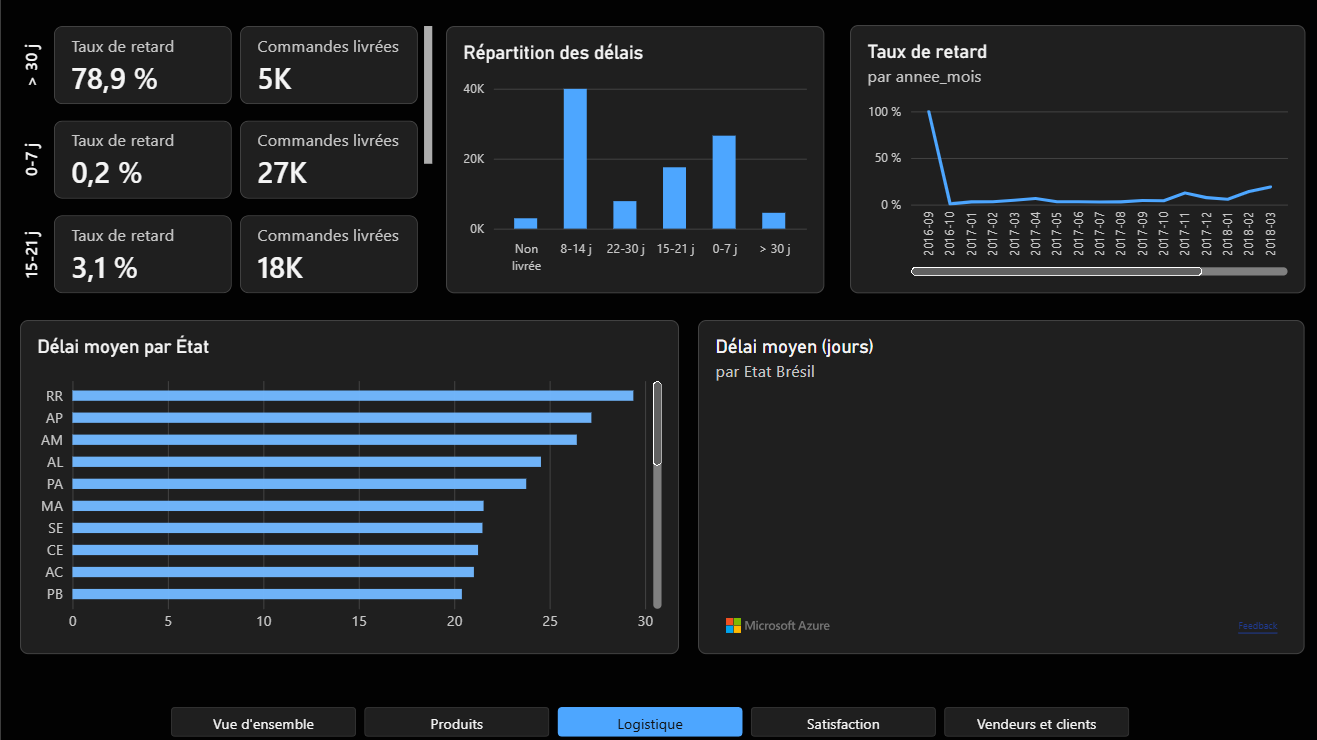

Layout of this report page (visuals, bound fields, positions):
{"tool":"powerbi","page":{"name":"Logistique","canvas":[1280,720],"ordinal":2},"visuals":[{"type":"cardVisual","fields":{"Data":["_Mesures.Taux de retard","_Mesures.Commandes livrées"],"Rows":["fait_commandes.Tranche délai"]},"box":[18.3,24.8,401.5,269.8],"z":0},{"type":"clusteredColumnChart","title":"Répartition des délais","fields":{"Category":["fait_commandes.Tranche délai"],"Y":["_Mesures.Nb commandes"]},"box":[432.8,24.8,368,260.1],"z":1000},{"type":"lineChart","fields":{"Category":["dim_date.annee_mois"],"Y":["_Mesures.Taux de retard"]},"box":[825.8,24.3,442.6,260.7],"z":2000},{"type":"clusteredBarChart","title":"Délai moyen par État","fields":{"Category":["dim_client.etat"],"Y":["_Mesures.Délai moyen (jours)"]},"box":[18.5,311.2,641,324.9],"z":3000},{"type":"azureMap","fields":{"Category":["dim_client.Etat Brésil"],"Size":["_Mesures.Délai moyen (jours)"]},"box":[677.9,311.2,590.4,324.9],"z":4000},{"type":"pageNavigator","box":[165.1,687.5,934.6,29.1],"z":5000}]}

Visuals, with their boxes on the page's 1280x720 design canvas (x1, y1, x2, y2). These are canvas units, not pixel positions in the 1317x740 screenshot, which may show the page scaled, cropped or inside an application window:
cardVisual - _Mesures.Taux de retard x _Mesures.Commandes livrées: (18, 25, 420, 295)
"Répartition des délais" clusteredColumnChart: (433, 25, 801, 285)
lineChart - dim_date.annee_mois x _Mesures.Taux de retard: (826, 24, 1268, 285)
"Délai moyen par État" clusteredBarChart: (18, 311, 660, 636)
azureMap - dim_client.Etat Brésil x _Mesures.Délai moyen (jours): (678, 311, 1268, 636)
pageNavigator: (165, 688, 1100, 717)
